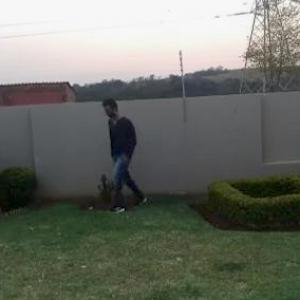follow: (109, 98, 141, 207)
